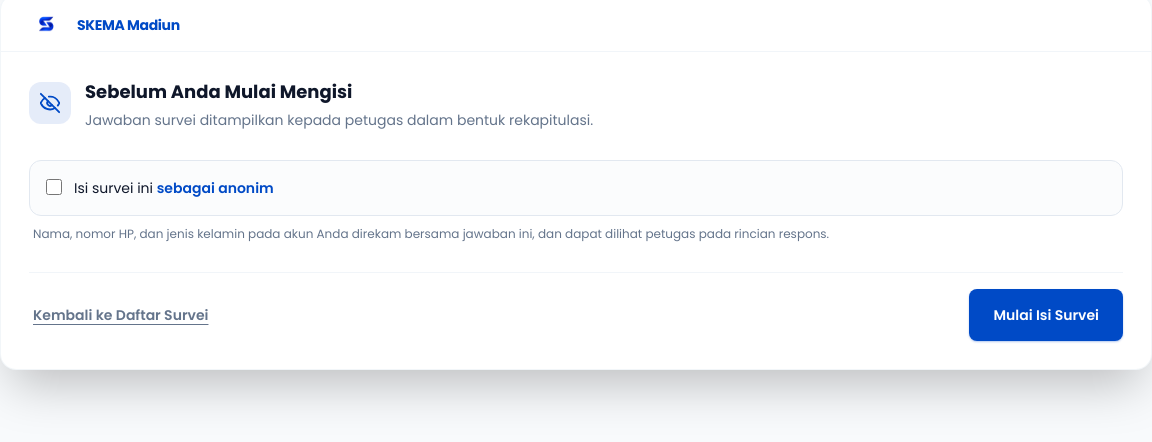
Test: GerbangPengisianBersesi › keterangannya berubah mengikuti pilihannya
The image size is (1152, 442).
expect the text "direkam bersama jawaban ini" is shown: met, box [33,225,829,242]
Click the checkbox labelled "Isi survei ini sebagai anonim" at x=54, y=186, box [46,178,62,194]
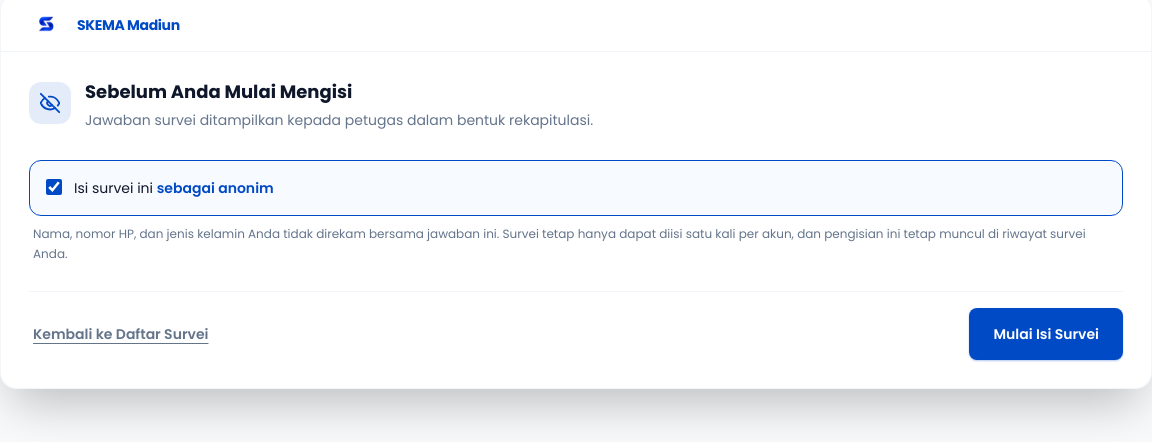
expect the text "tidak direkam bersama jawaban ini" is shown: met, box [33,225,1086,262]
expect the text "dapat dilihat petugas" is gone: met
